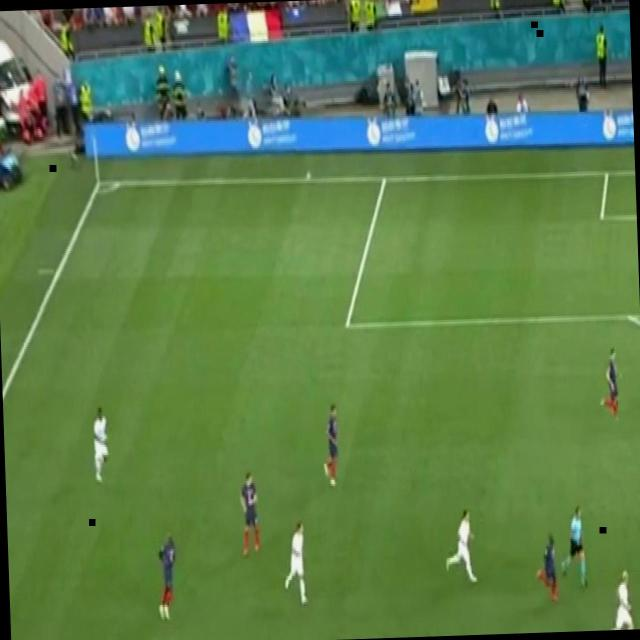player-white: (443, 508, 478, 584), (559, 502, 589, 588), (282, 521, 309, 607), (156, 530, 179, 622), (601, 570, 635, 630), (598, 347, 624, 422), (533, 530, 559, 604), (239, 470, 261, 557), (321, 402, 341, 488), (92, 406, 110, 484)
